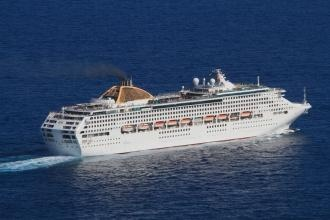youlun: (34, 62, 312, 157)
